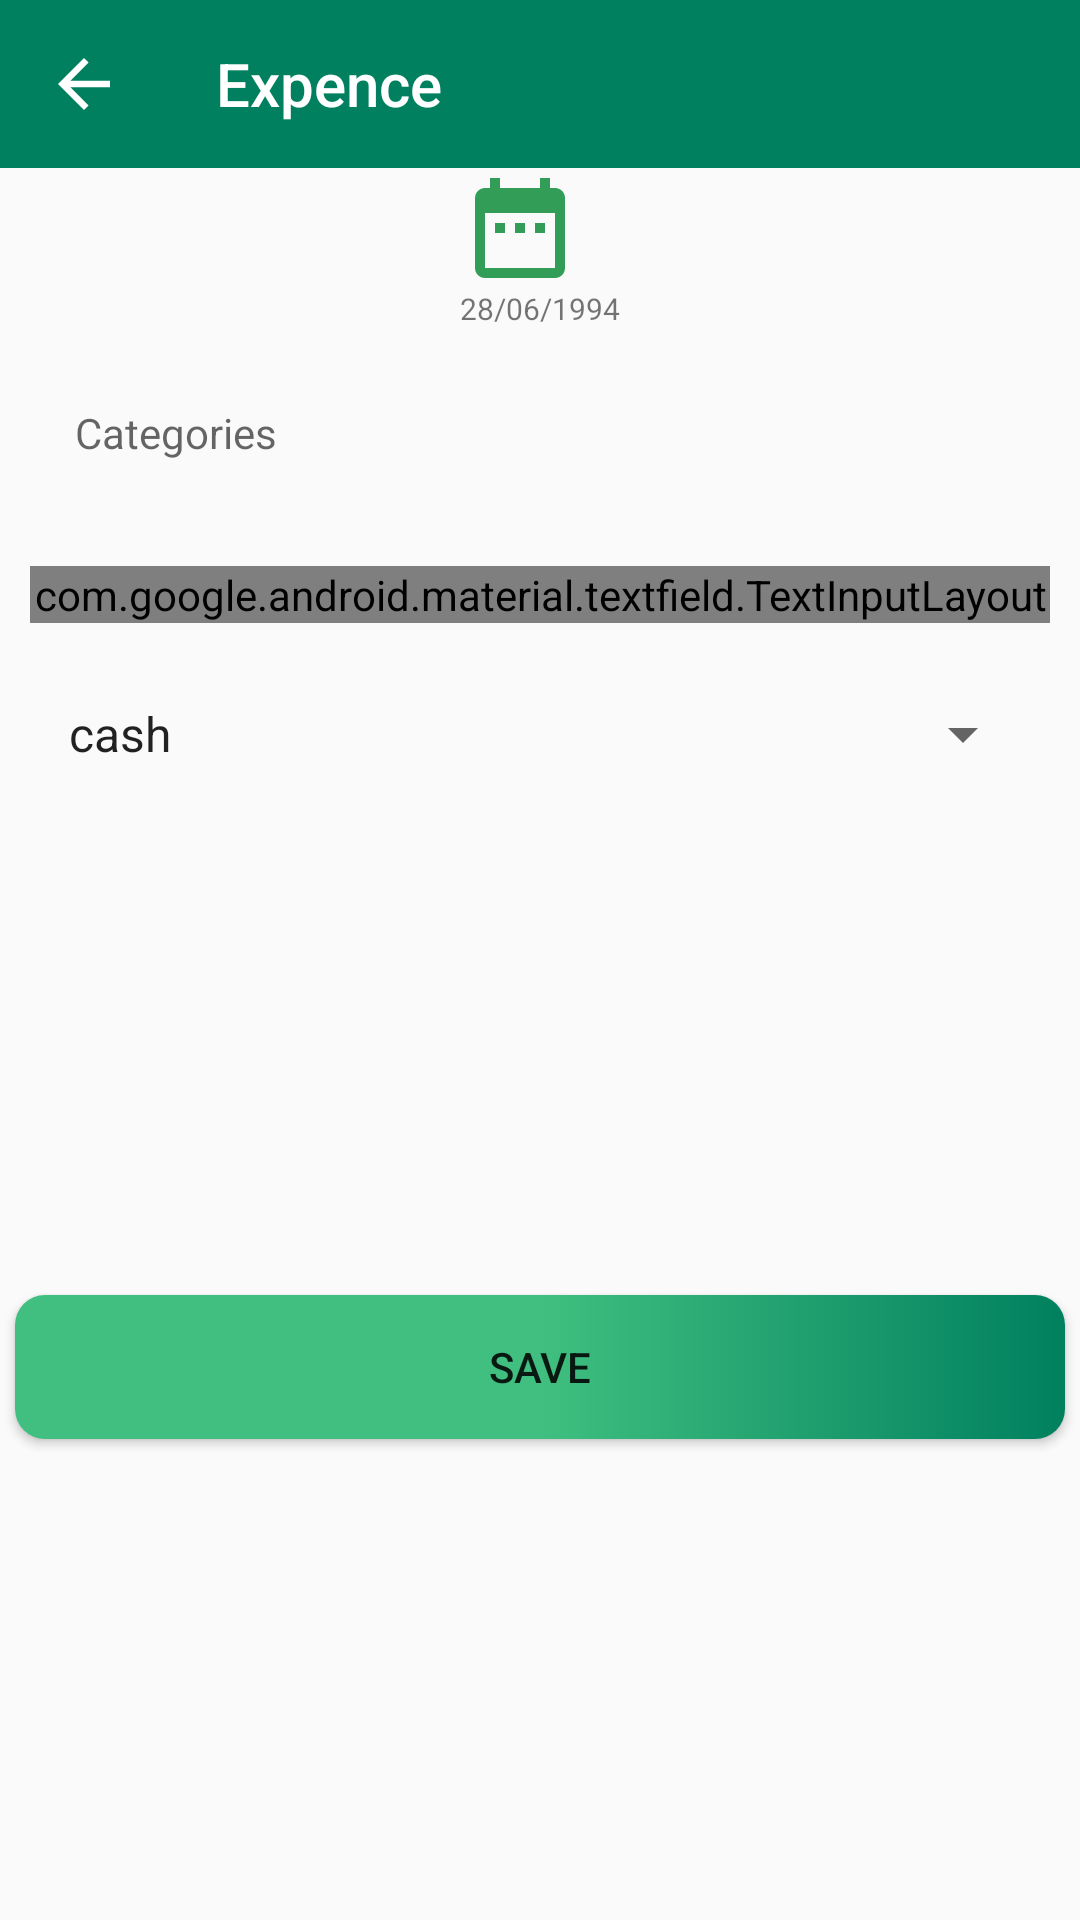

Where icons sit on this 1080px×1920px app screen, as (x1=x1, y1=y1, x2=x2, y2=y2):
datelarge: (x1=475, y1=178, x2=565, y2=278)
